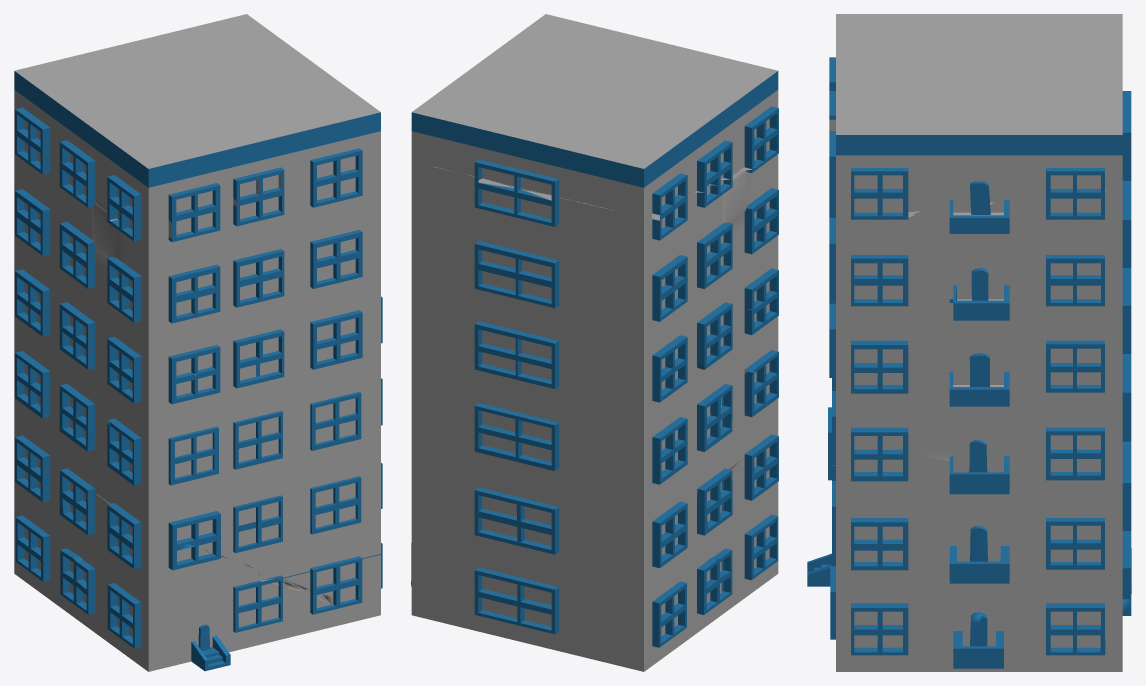
The model's file is Condo V2 1.fbx.
3 views of the same model, side by side, from view 1: azimuth 30°, elevation 25°; view 2: azimuth 150°, elevation 25°; view 3: azimuth 270°, elevation 25° (orthographic). The views are drawn at different scales.
Parts seen in each view (by area): view 1: polySurface408, polySurface391, polySurface407, polySurface389, polySurface399; view 2: polySurface408, polySurface407, polySurface399, polySurface391, polySurface389; view 3: polySurface391, polySurface408, polySurface399, polySurface407, polySurface389.
Boxes of the visible parts, box(x1,y1,x2,y2) form: polySurface408: box(14, 14, 380, 248); polySurface391: box(14, 369, 382, 615); polySurface407: box(14, 119, 380, 387); polySurface389: box(14, 435, 378, 671); polySurface399: box(14, 259, 382, 419); polySurface408: box(411, 14, 778, 217); polySurface407: box(411, 154, 778, 356); polySurface399: box(411, 275, 778, 466); polySurface391: box(411, 322, 778, 617); polySurface389: box(423, 430, 778, 671); polySurface391: box(828, 378, 1131, 671); polySurface408: box(829, 14, 1131, 220); polySurface399: box(829, 268, 1131, 646); polySurface407: box(829, 154, 1131, 341); polySurface389: box(807, 459, 1131, 615).
Bounding box in the file's own units: 353 × 620 × 339.
